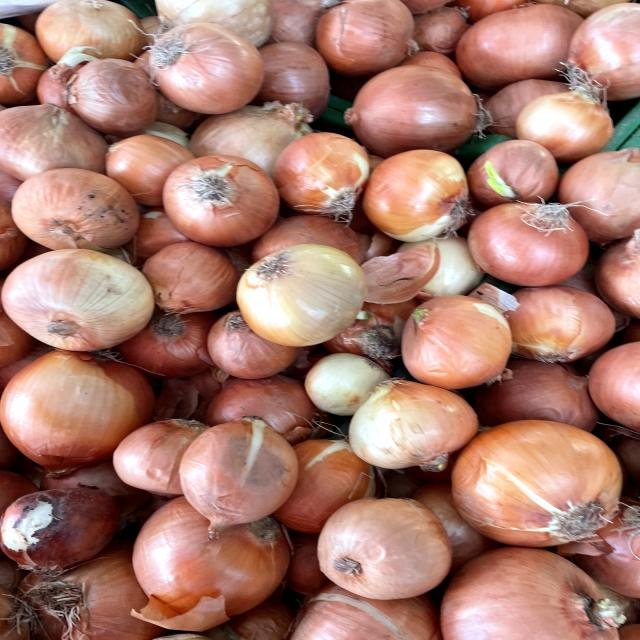onion: (440, 415, 637, 549), (0, 341, 157, 476), (0, 243, 160, 354), (177, 407, 312, 537), (338, 371, 490, 478), (315, 487, 461, 598), (132, 17, 271, 116), (468, 191, 605, 291), (340, 62, 492, 152), (156, 149, 285, 252), (392, 288, 521, 388), (7, 162, 148, 253), (354, 147, 486, 243), (519, 64, 617, 166), (308, 0, 425, 77)
